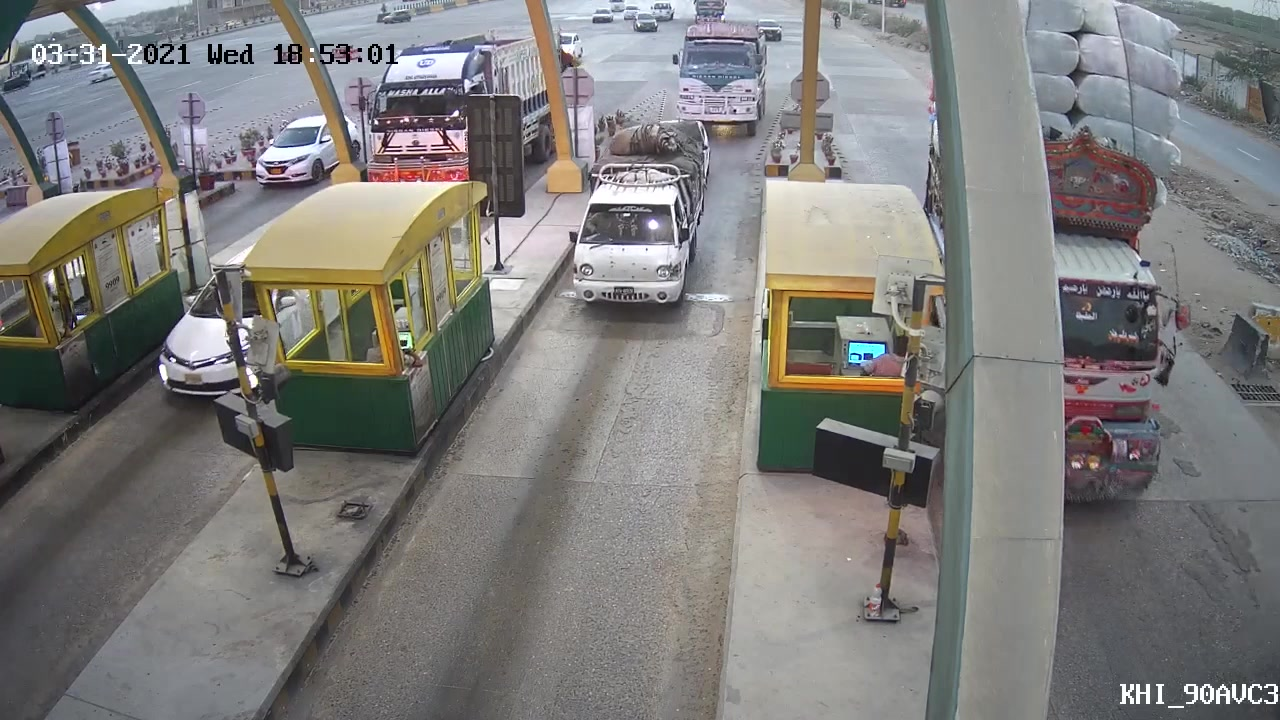F3: (567, 115, 708, 317)
